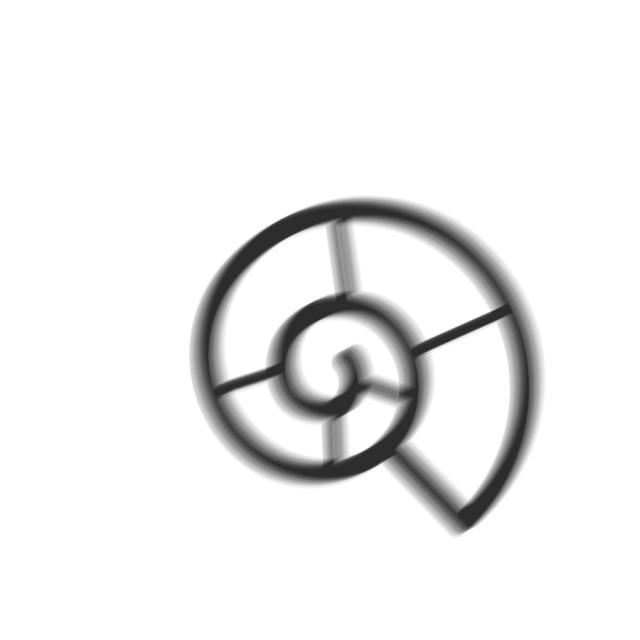fossil: (185, 194, 549, 543)
